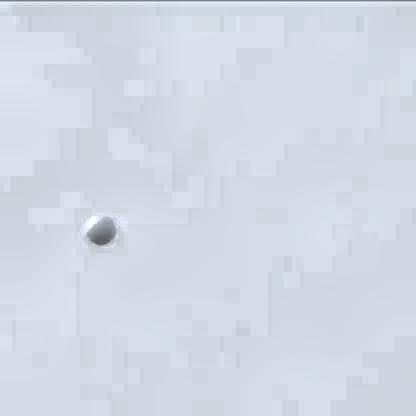golfball: (84, 209, 114, 240)
